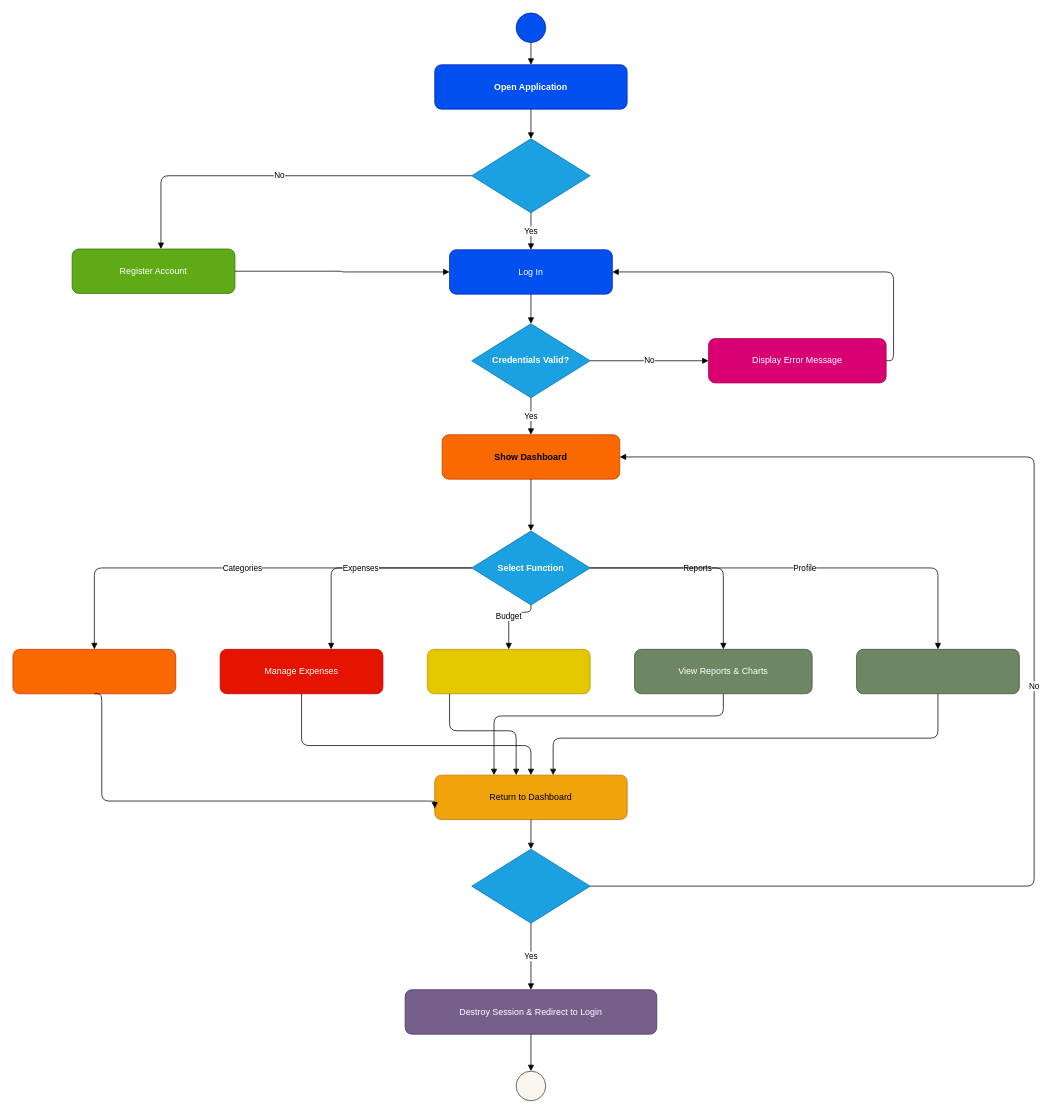
This 1053x1114 diagram has some shape labels left out. The box of each missing label's shape, as (x1, y1, x2, y2) in pixels:
Log Out?: (471, 848, 590, 923)
Manage Categories: (12, 649, 176, 694)
Registered User?: (471, 138, 590, 213)
Set Monthly Budget: (427, 649, 590, 694)
Update Profile: (856, 649, 1019, 694)
